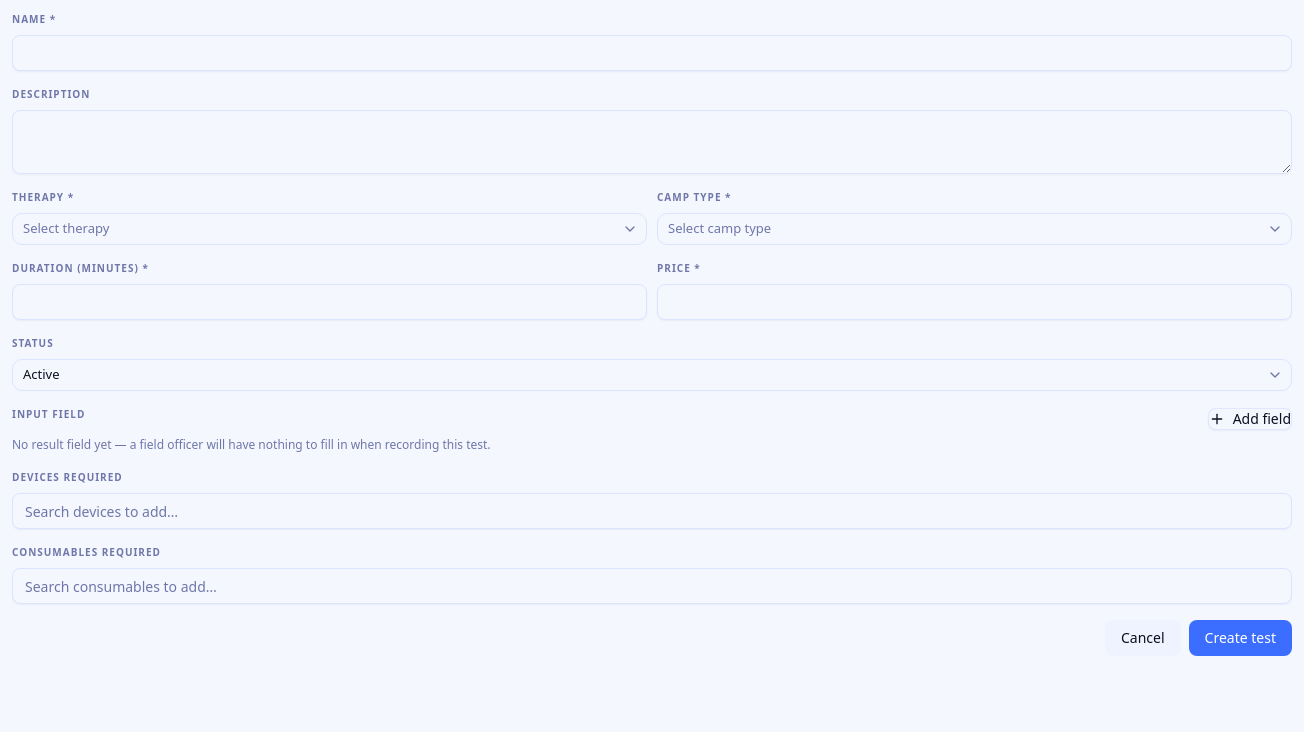
Test: TestForm — create mode › blocks submission until a therapy is consciously chosen — no first-enum-value default
In the field labelled "Name *": coordinates (652, 53) [12,35,1292,71], type "ECG Test"
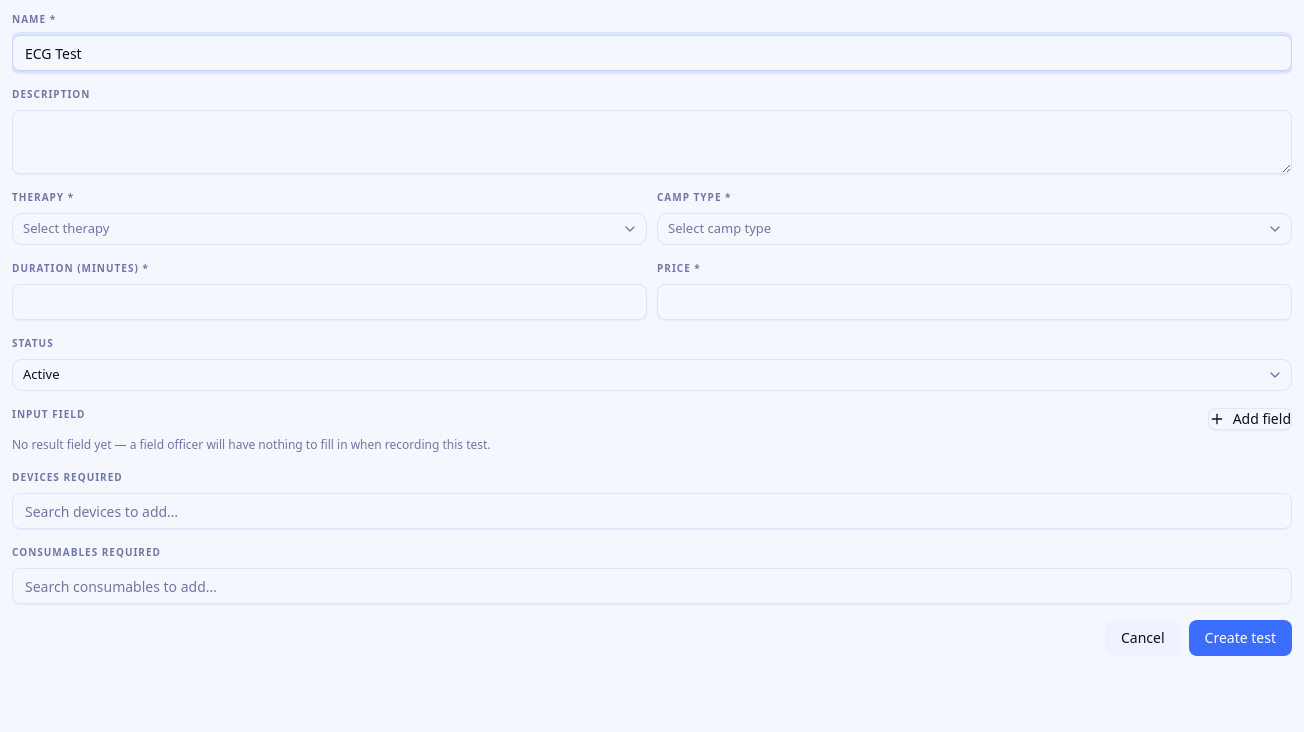
In the number field labelled "Duration (minutes) *": coordinates (330, 302) [12,284,647,320], type "15"
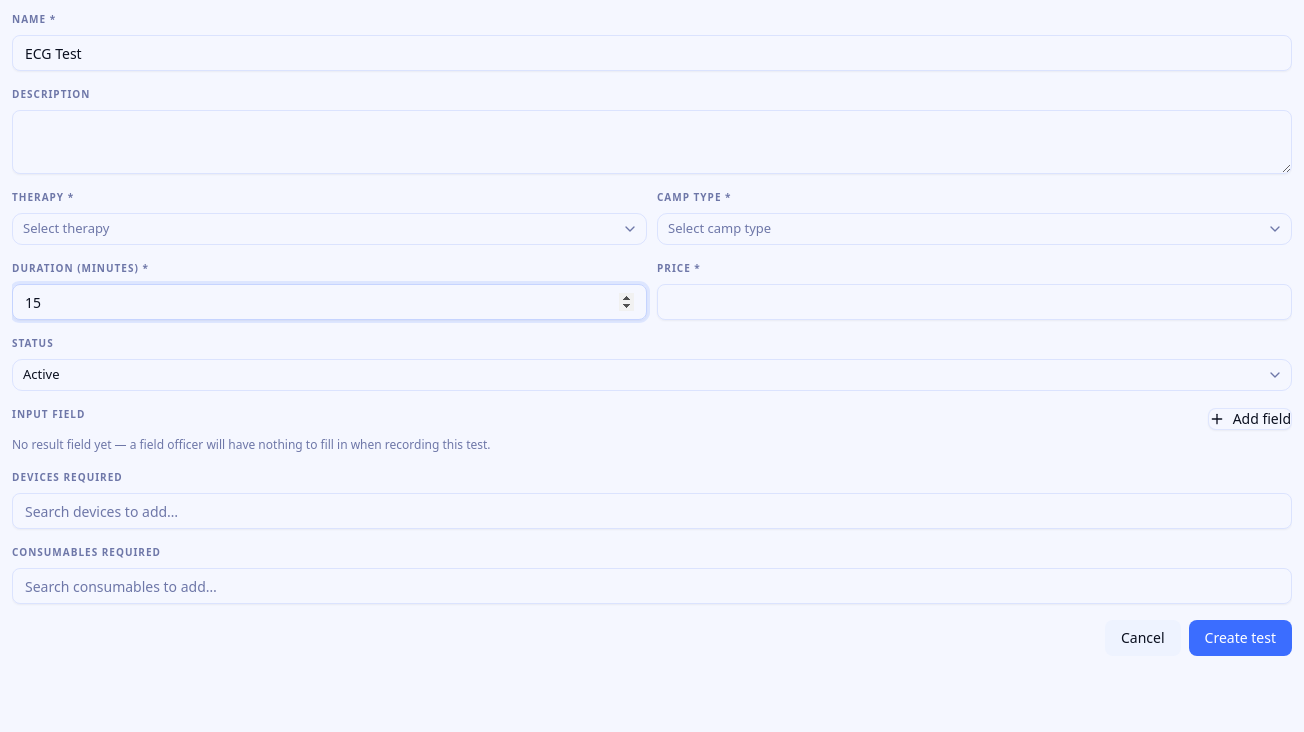
In the number field labelled "Price *": coordinates (974, 302) [657,284,1292,320], type "250"
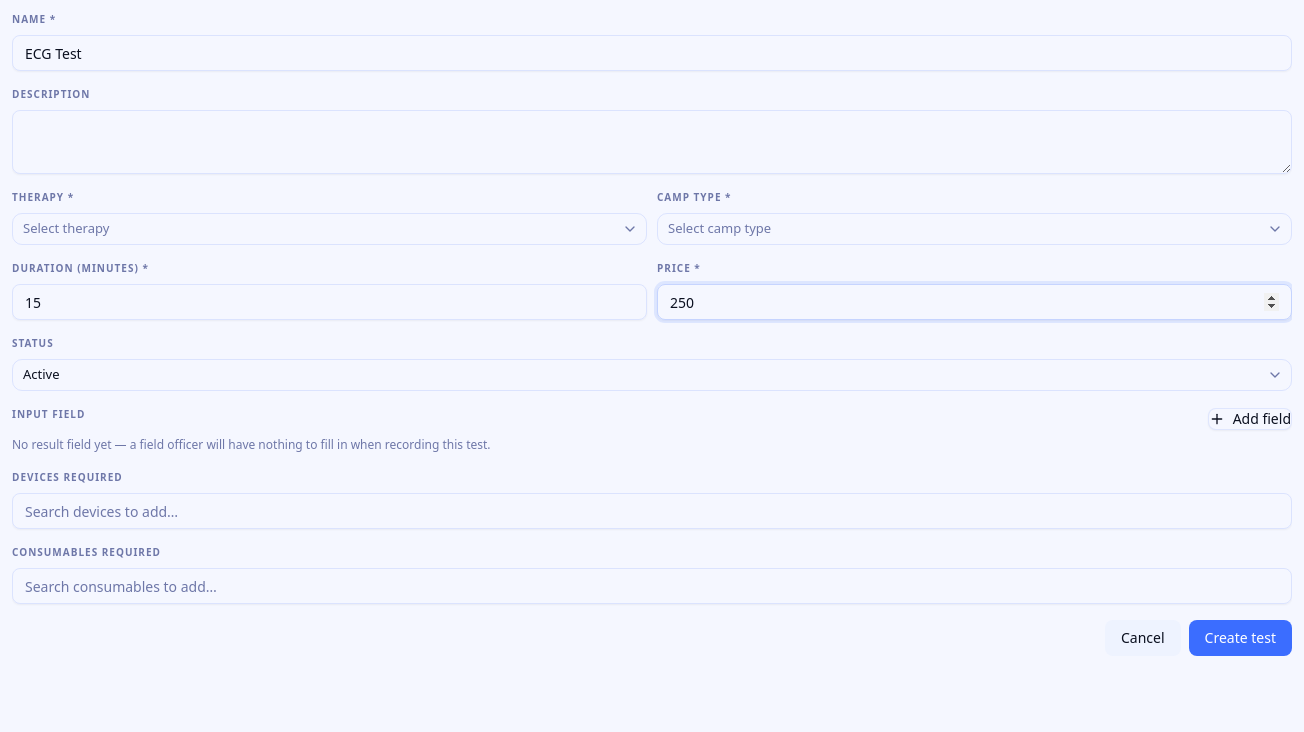
Click the button "Create test": coordinates (1240, 638) [1189,620,1292,656]
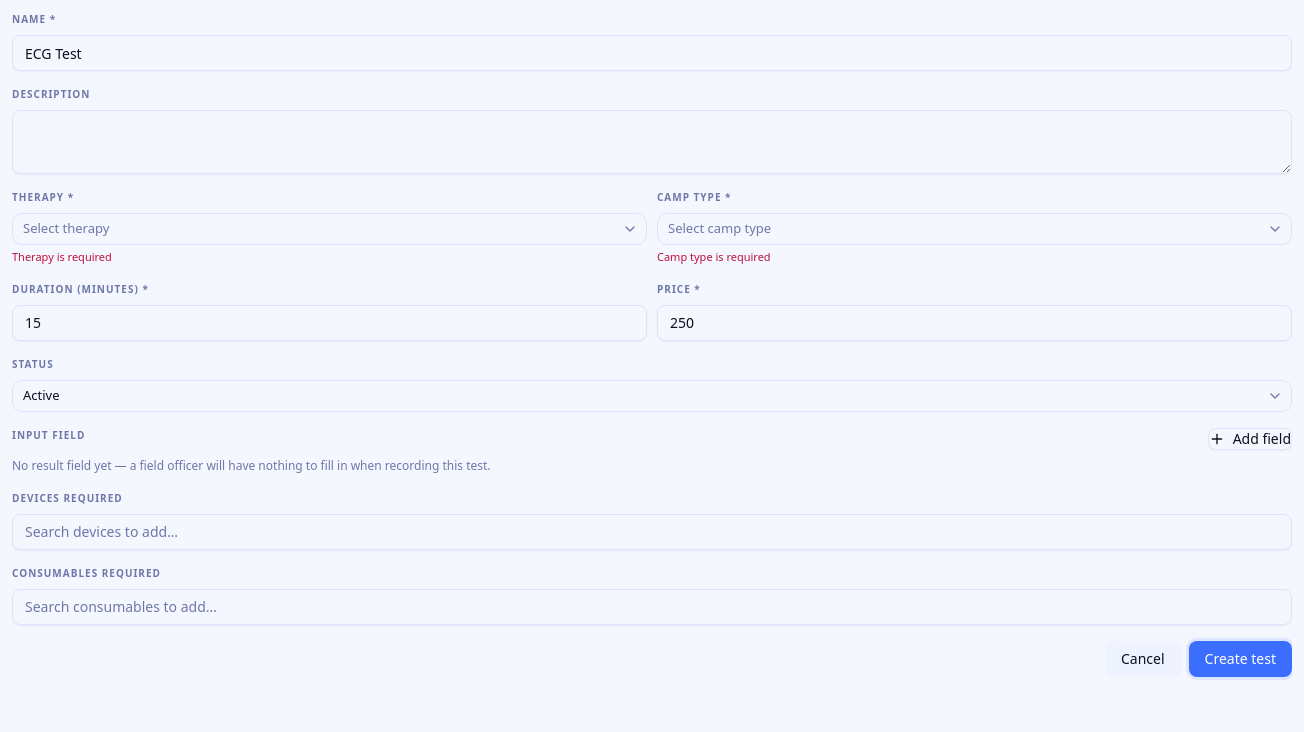
Expected: the text "Select therapy" is shown, [23,219,109,237]
Now the text "Therapy is required" is shown, box [12,249,112,264]
